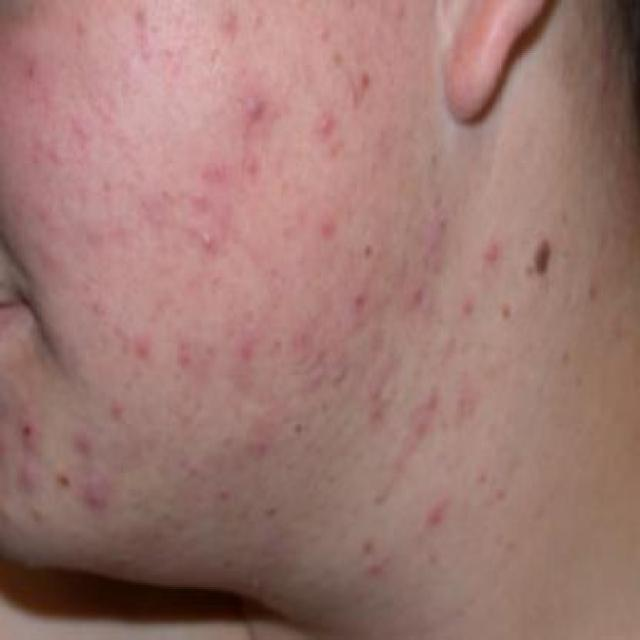papules: (412, 210, 462, 273), (75, 473, 118, 530), (415, 493, 460, 544), (186, 212, 231, 263), (337, 277, 381, 328), (165, 326, 203, 385), (237, 75, 277, 128), (402, 271, 436, 328), (8, 452, 46, 503), (65, 413, 103, 462), (237, 138, 269, 196), (11, 416, 58, 454), (95, 385, 134, 430), (309, 98, 342, 151), (351, 391, 395, 428), (448, 286, 486, 328), (209, 0, 249, 39), (477, 218, 506, 271), (316, 204, 350, 248), (231, 326, 260, 377), (283, 326, 322, 359), (126, 330, 159, 369), (422, 367, 444, 418), (298, 369, 328, 406), (206, 477, 240, 507), (203, 153, 231, 189)
